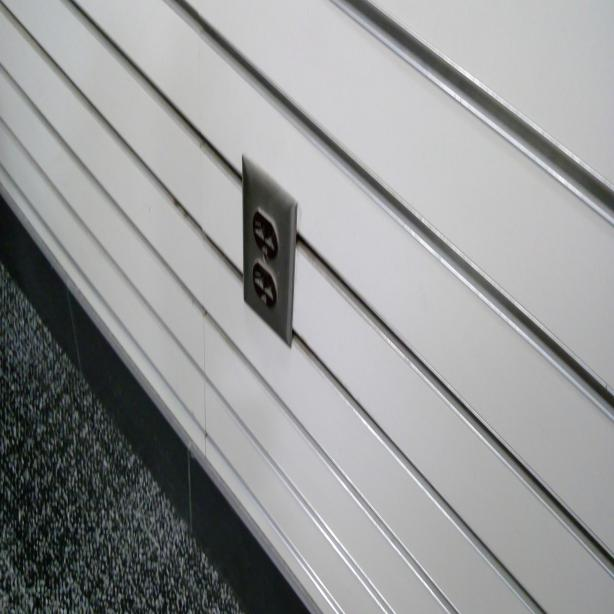typeb: (250, 209, 282, 258), (251, 265, 278, 312)
